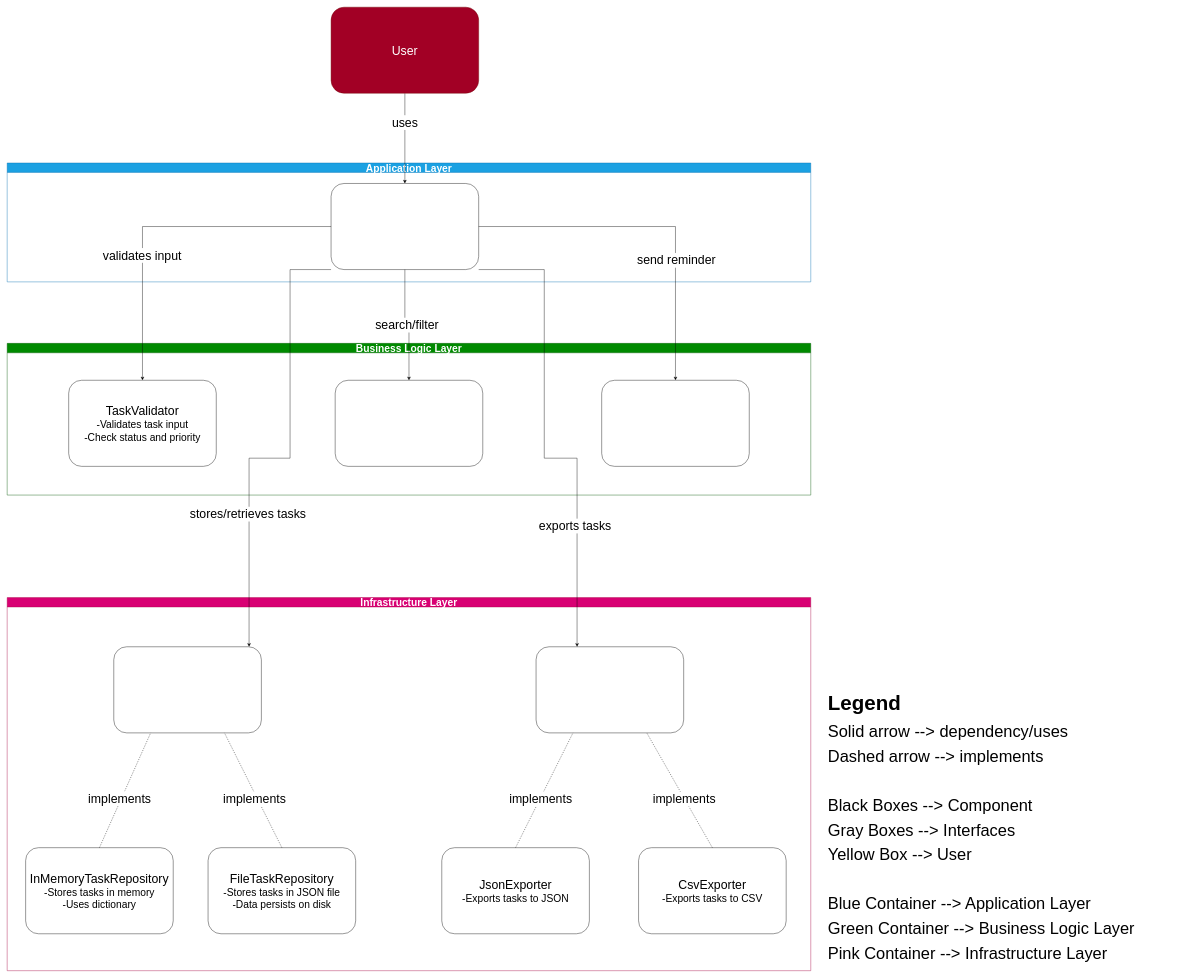
The diagram is 1191 pixels wide and 979 high, and some of its shapes have lost their labels. The shapes that lost their labels are listed below. From the top down, each one's centre as x and y in pixels, then its label:
At point (405, 226): "TaskManager -Coordinates system workflow -Delegates to components".
At point (409, 423): "TaskSearch -Search tasks -Filters by status, priority, assignee".
At point (675, 423): "TaskNotifier -Sends reminder messages -Console simulation".
At point (187, 689): "<<interface>> ITaskRepository add() / get() / get_all() / update() / delete()".
At point (610, 689): "<<interface>> ITaskExporter export(tasks, path)".
